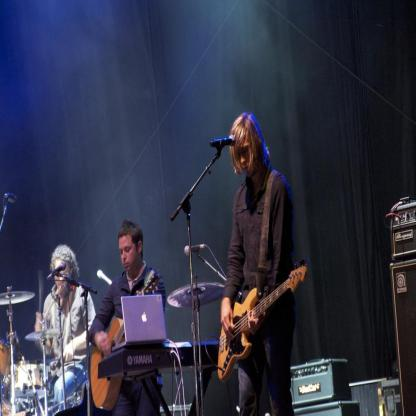board: (112, 293, 166, 349)
